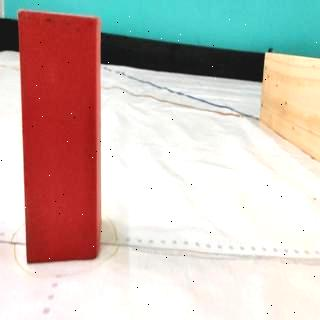redbox: (16, 10, 100, 265)
